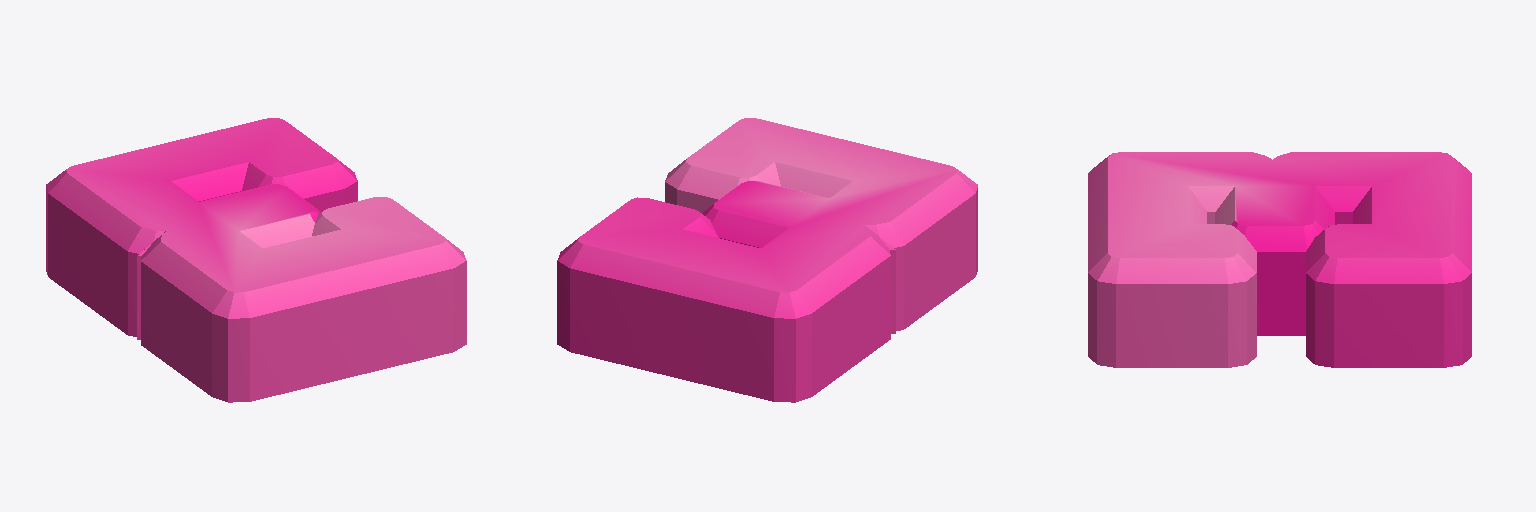
3 views of the same model, side by side, from view 1: azimuth 30°, elevation 25°; view 2: azimuth 150°, elevation 25°; view 3: azimuth 270°, elevation 25° (orthographic).
Visible parts, largest first — view 1: 3; view 2: 3; view 3: 3.
Part boxes in pixels (left/top/right/bottom): 3: left=46, top=118, right=466, bottom=402; 3: left=557, top=118, right=977, bottom=402; 3: left=1088, top=152, right=1471, bottom=367.
Bounding box in the file's own units: 1.63 × 0.63 × 2.16.
1 materials, 1 textured.